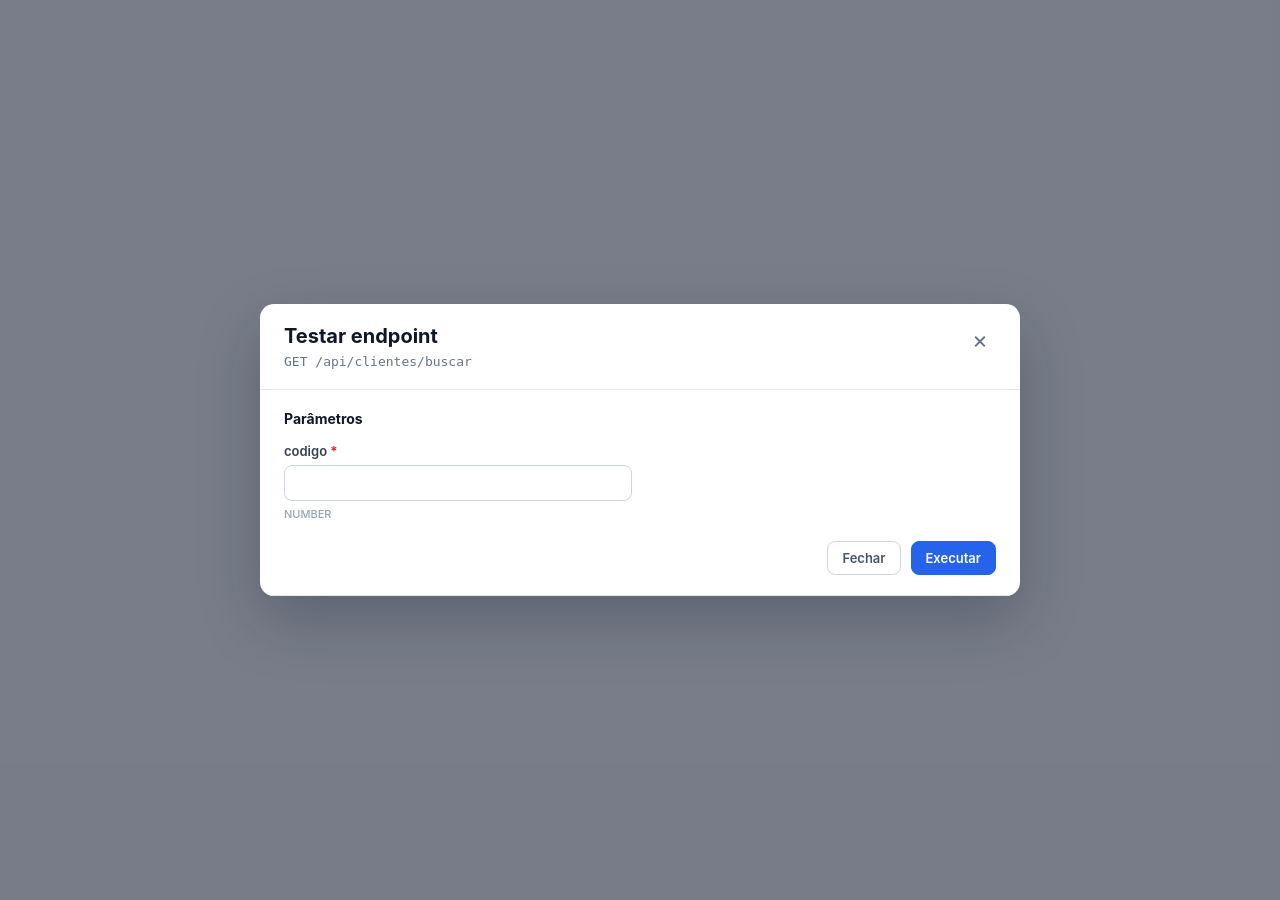
Scenario: EndpointTestModal › mostra o erro retornado pela execução
Type "abc" into the field labelled "codigo * NUMBER".
click(458, 483); type("abc")  # box [284,465,632,501]
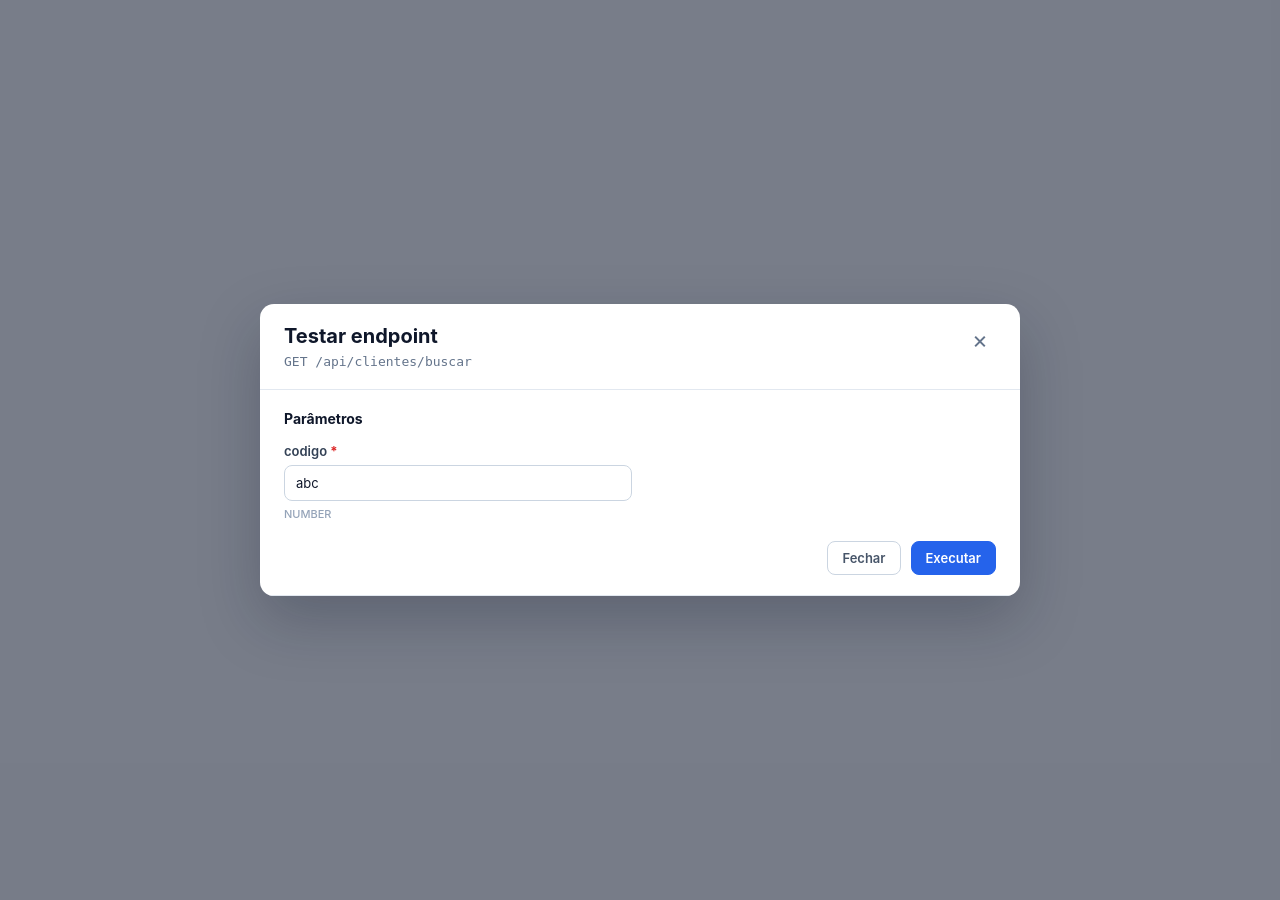
Click the button "Executar".
click(953, 558)  # box [910,541,996,575]
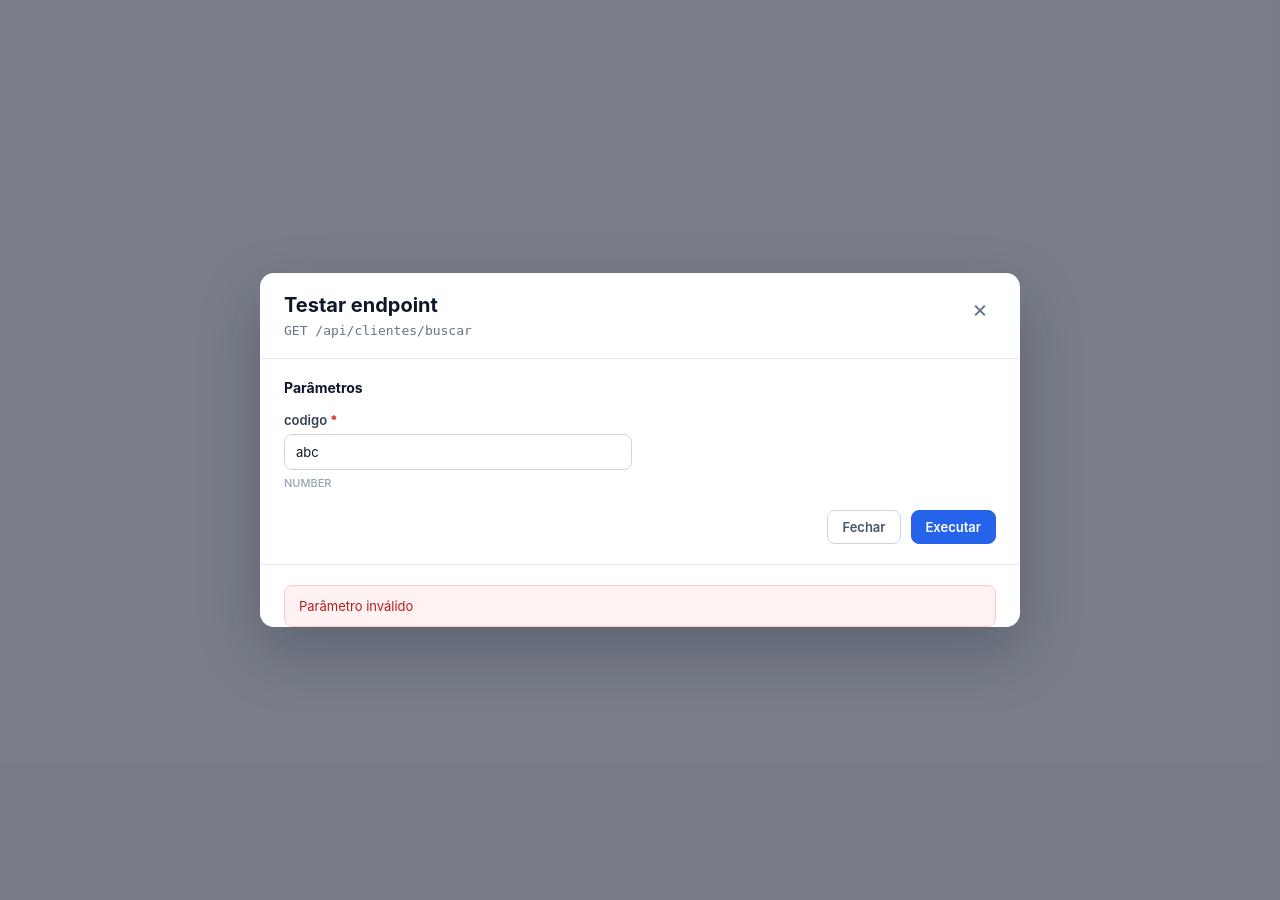
Now the text "Parâmetro inválido" is shown, box [284,585,996,627]
